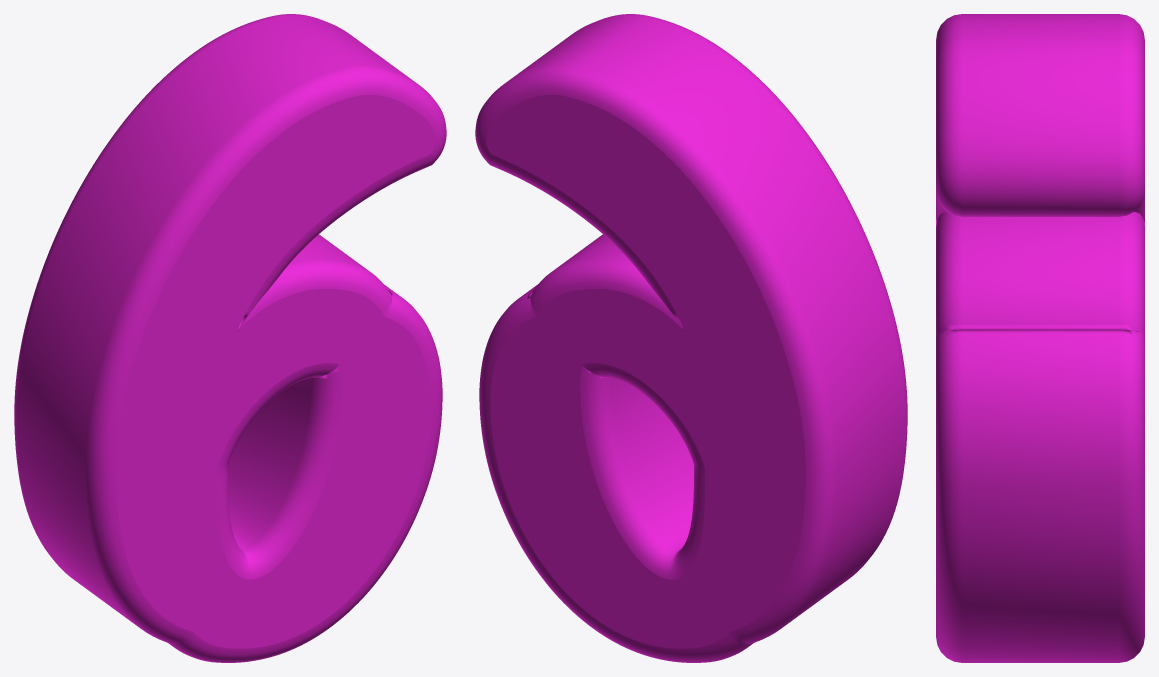
The picture shows the model from 3 angles, left to right: view 1: azimuth 30°, elevation 25°; view 2: azimuth 150°, elevation 25°; view 3: azimuth 270°, elevation 25°; orthographic projection. The views are drawn at different scales.
Parts seen in each view (by area): view 1: Text; view 2: Text; view 3: Text.
Boxes of the visible parts, <box> form: Text: <box>14,14,446,662</box>; Text: <box>475,14,907,662</box>; Text: <box>936,14,1144,662</box>.
Size of the model in its own units: 0.3647 by 0.5534 by 0.16.
